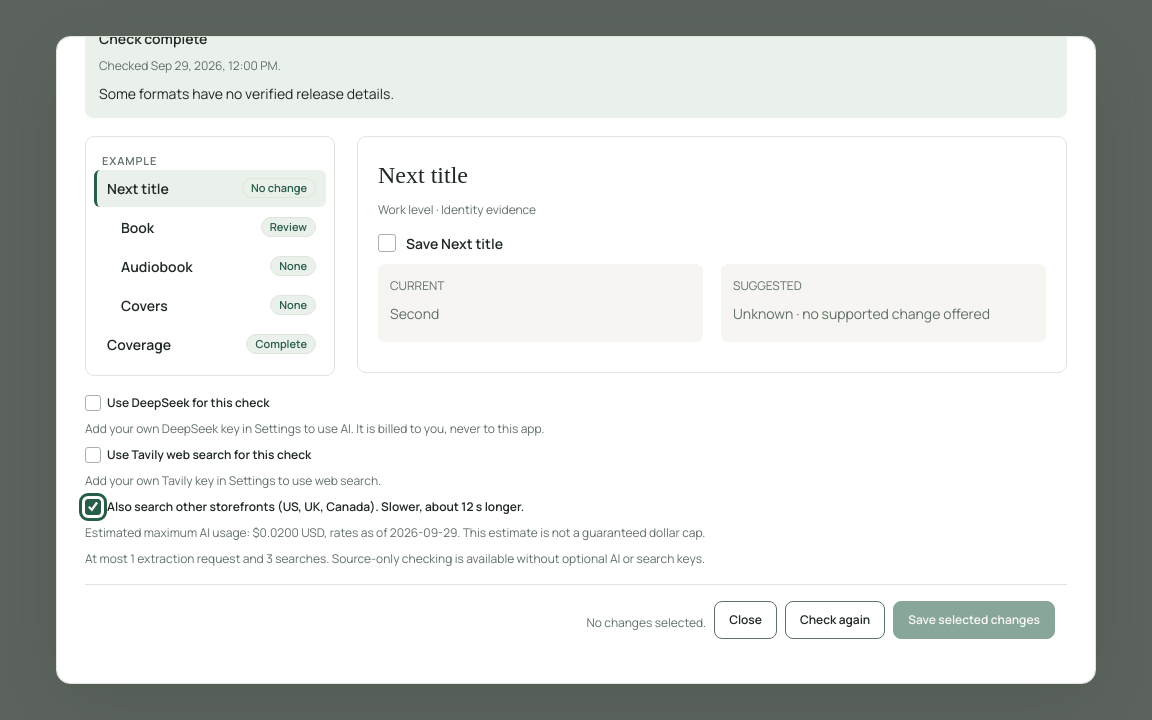
Test case: an undated available proposal with no source market is explained and cannot be selected
(page scrolled)
Click the tab "Book Review" at (217, 227), box [108,208,326,246]
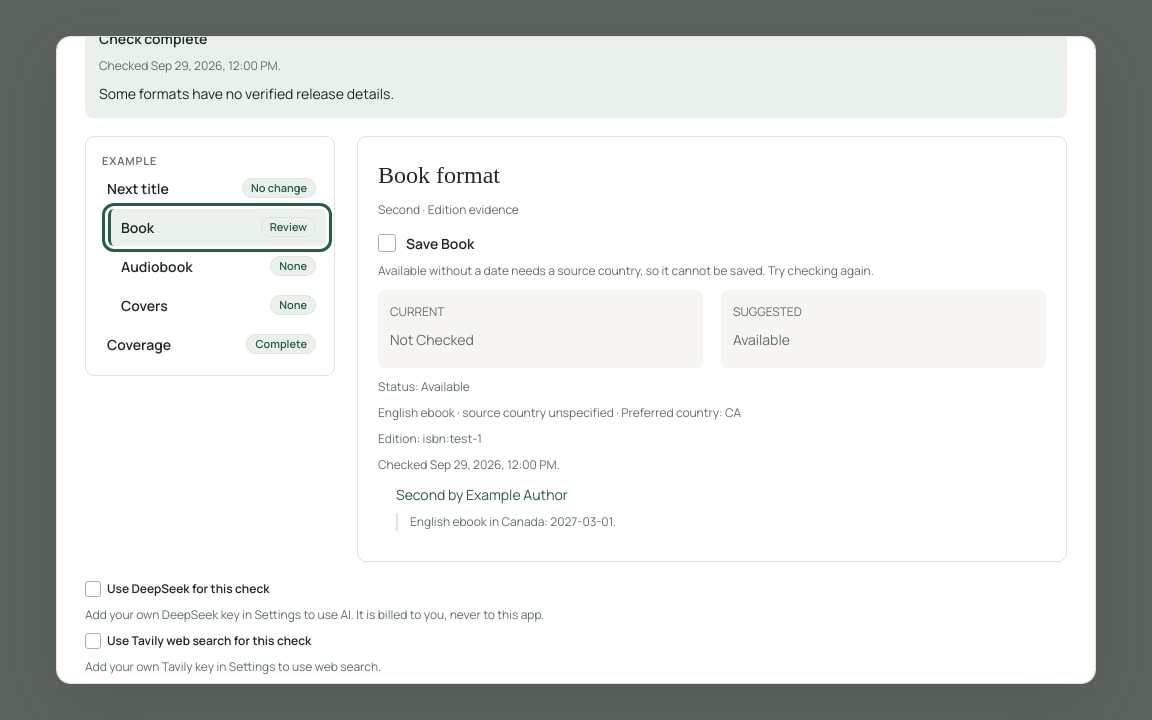
Check: the checkbox labelled "Save Book" is disabled, box [378,234,396,252]
Check: the text "needs a source country, so it cannot be saved" is shown, box [378,262,874,278]
